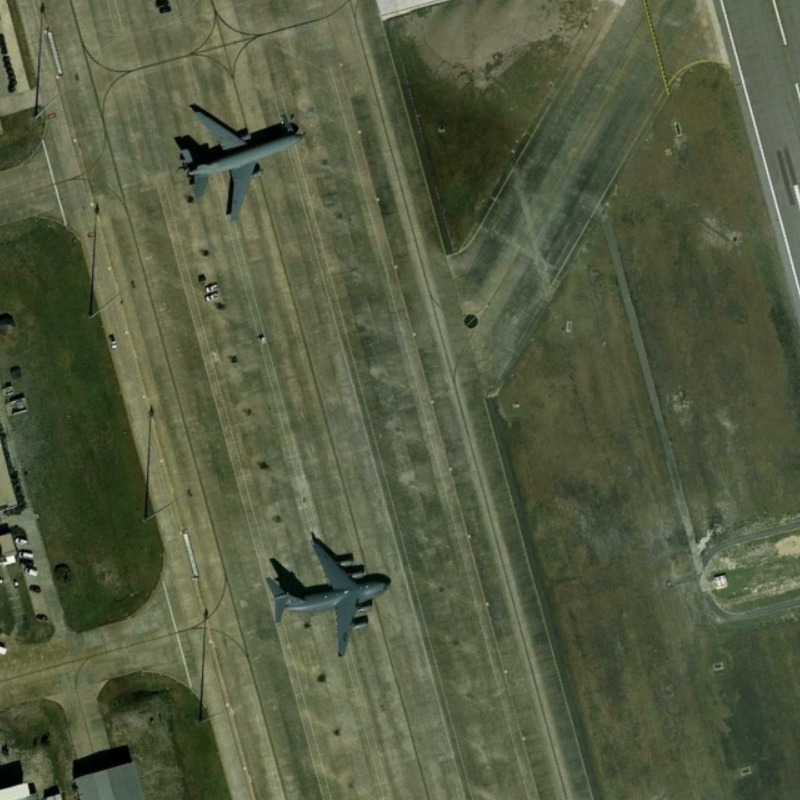A18: (172, 96, 310, 226)
A3: (257, 535, 393, 666)
